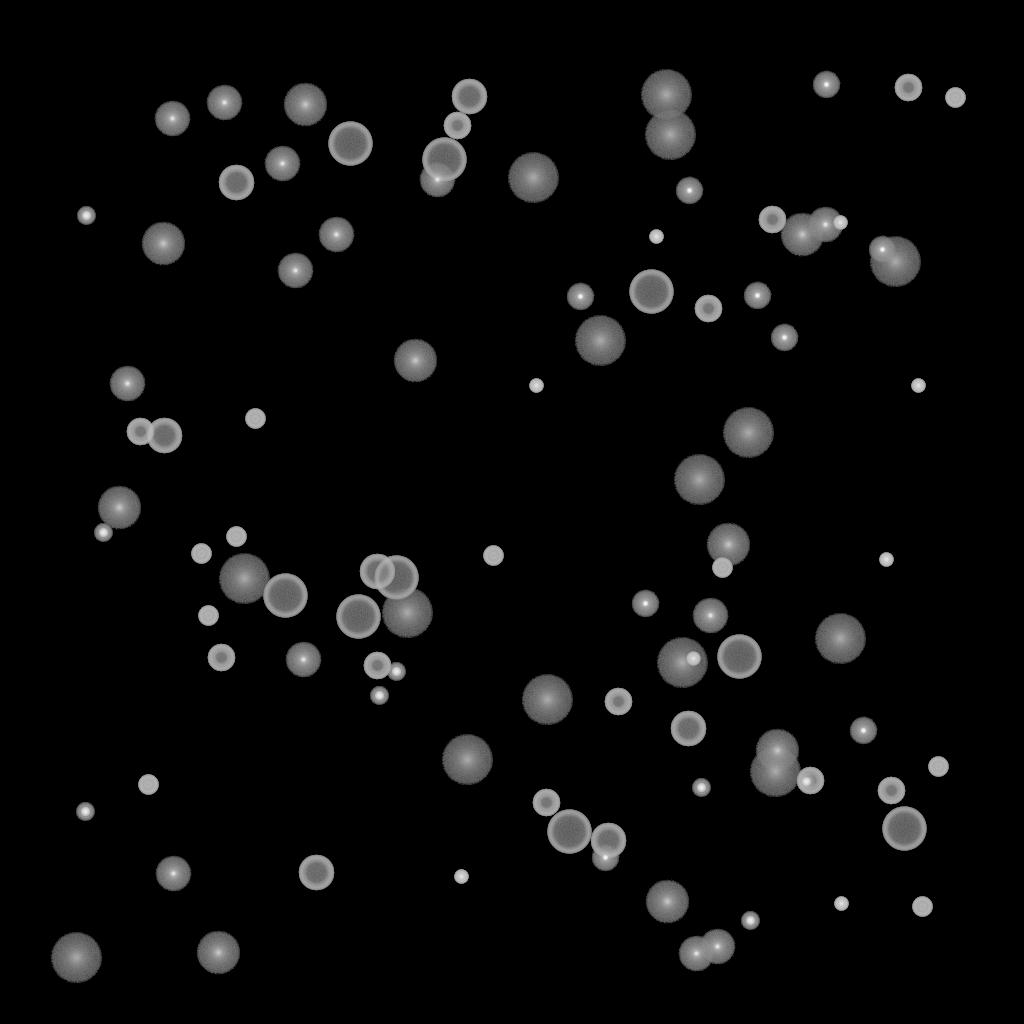depth:-10: (631, 590, 659, 618), (770, 324, 798, 352), (868, 236, 896, 264), (849, 717, 877, 745), (675, 177, 703, 205), (566, 283, 594, 311), (743, 282, 771, 310), (591, 844, 619, 872), (812, 71, 840, 99)
depth:-20: (387, 663, 405, 681), (77, 207, 95, 225), (692, 779, 710, 797), (797, 773, 815, 791), (94, 524, 112, 542), (76, 803, 94, 821), (741, 912, 759, 930), (370, 687, 388, 705)
depth:-30: (879, 553, 893, 567), (834, 897, 848, 911), (686, 652, 700, 666), (454, 870, 468, 884), (911, 379, 925, 393), (649, 230, 663, 244), (529, 379, 543, 393), (833, 216, 847, 230)
depth:-40: (198, 606, 218, 626), (912, 897, 932, 917), (928, 757, 948, 777), (191, 544, 211, 564), (945, 88, 965, 108), (483, 546, 503, 566), (138, 775, 158, 795), (712, 558, 732, 578), (245, 409, 265, 429), (226, 527, 246, 547)
depth:-50: (207, 644, 235, 672), (694, 295, 722, 323), (126, 418, 154, 446), (894, 74, 922, 102), (877, 777, 905, 805), (604, 688, 632, 716), (363, 652, 391, 680), (796, 767, 824, 795), (443, 112, 471, 140), (758, 206, 786, 234), (532, 789, 560, 817)
depth:-60: (146, 418, 182, 454), (218, 165, 254, 201), (451, 79, 487, 115), (298, 855, 334, 891), (590, 823, 626, 859), (670, 711, 706, 747), (359, 554, 395, 590)
depth:-70: (717, 635, 761, 679), (629, 270, 673, 314), (374, 556, 418, 600), (422, 138, 466, 182), (547, 810, 591, 854), (263, 574, 307, 618), (882, 807, 926, 851), (328, 122, 372, 166), (336, 595, 380, 639)
depth:0: (264, 146, 300, 182), (155, 856, 191, 892), (206, 85, 242, 121), (109, 366, 145, 402), (692, 598, 728, 634), (678, 936, 714, 972), (285, 642, 321, 678), (154, 101, 190, 137), (277, 253, 313, 289), (318, 217, 354, 253), (699, 929, 735, 965), (419, 162, 455, 198), (807, 207, 843, 243)
depth:10: (283, 83, 327, 127), (393, 339, 437, 383), (97, 486, 141, 530), (196, 931, 240, 975), (645, 880, 689, 924), (755, 729, 799, 773), (706, 523, 750, 567), (141, 222, 185, 266), (780, 213, 824, 257)
depth:20: (644, 110, 696, 160), (521, 675, 573, 725), (656, 638, 708, 688), (640, 70, 692, 120), (869, 237, 921, 287), (50, 933, 102, 983), (673, 455, 725, 505), (441, 735, 493, 785), (722, 408, 774, 458), (814, 614, 866, 664), (574, 316, 626, 366), (218, 554, 270, 604), (507, 153, 559, 203), (381, 588, 433, 638), (749, 747, 801, 797)
